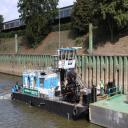tugboat: (11, 46, 118, 124)
